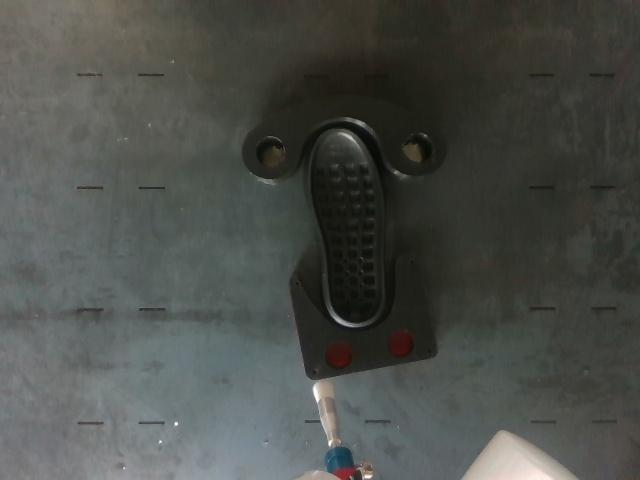shoes: (310, 128, 384, 324)
